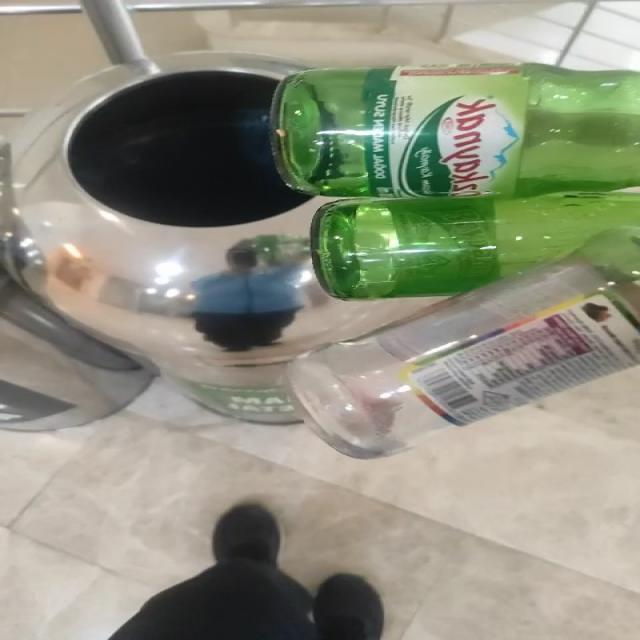glass: (272, 63, 640, 458)
